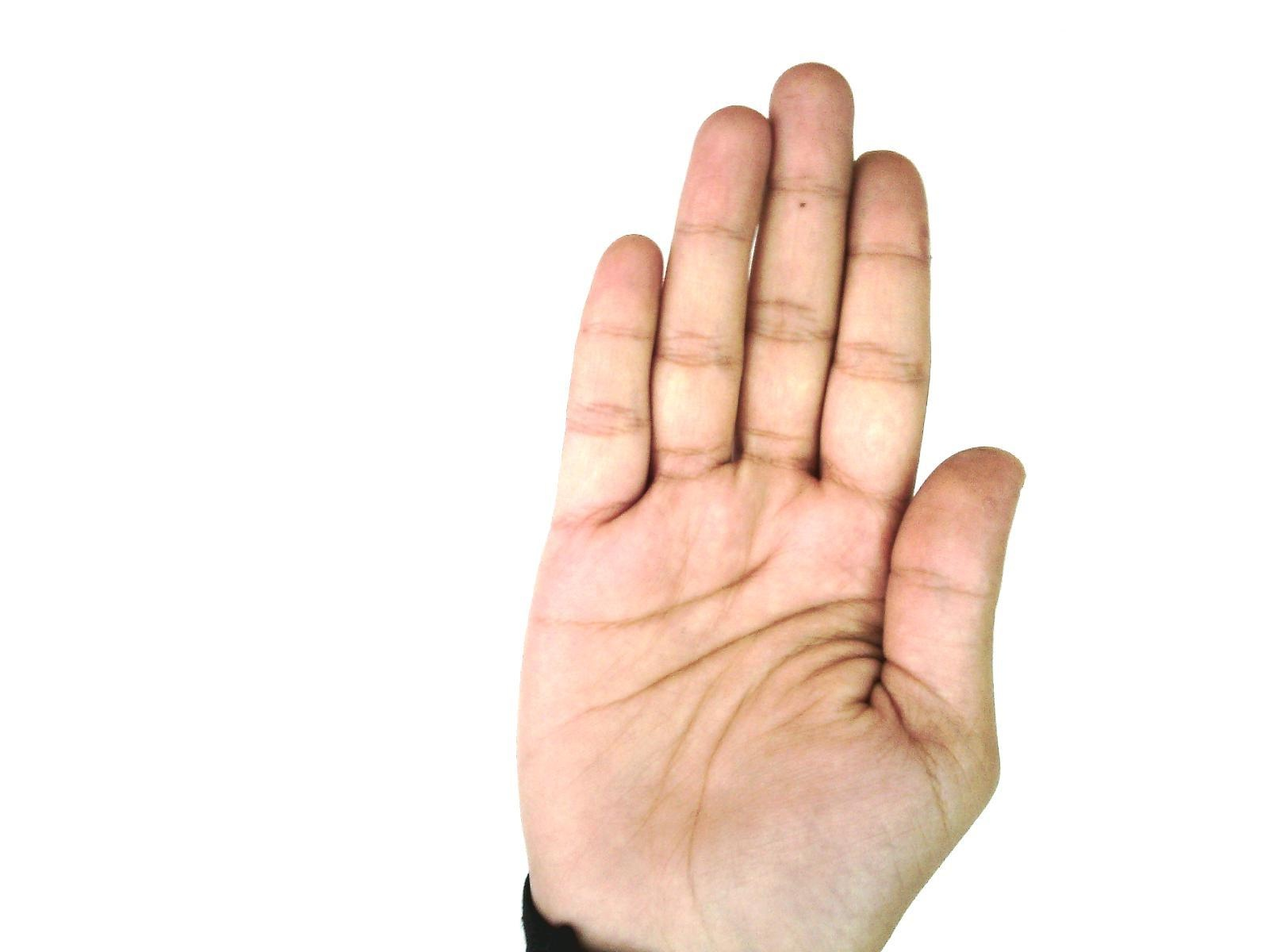open_palm: (512, 62, 1029, 951)
